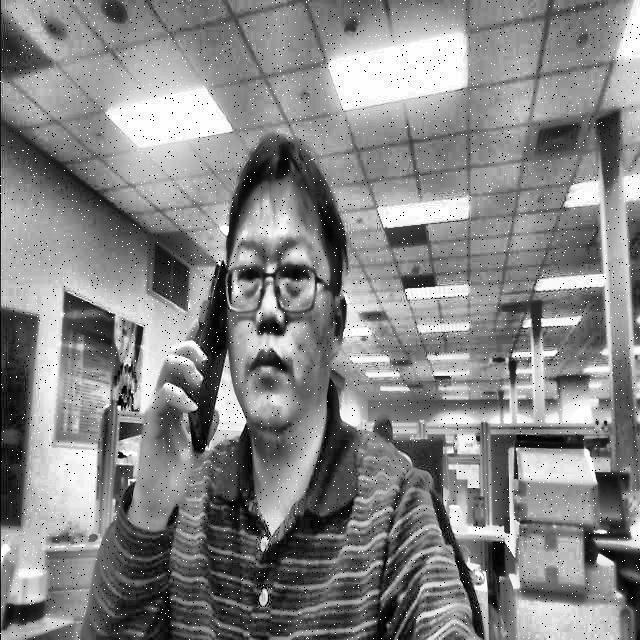phone: (178, 259, 228, 452)
